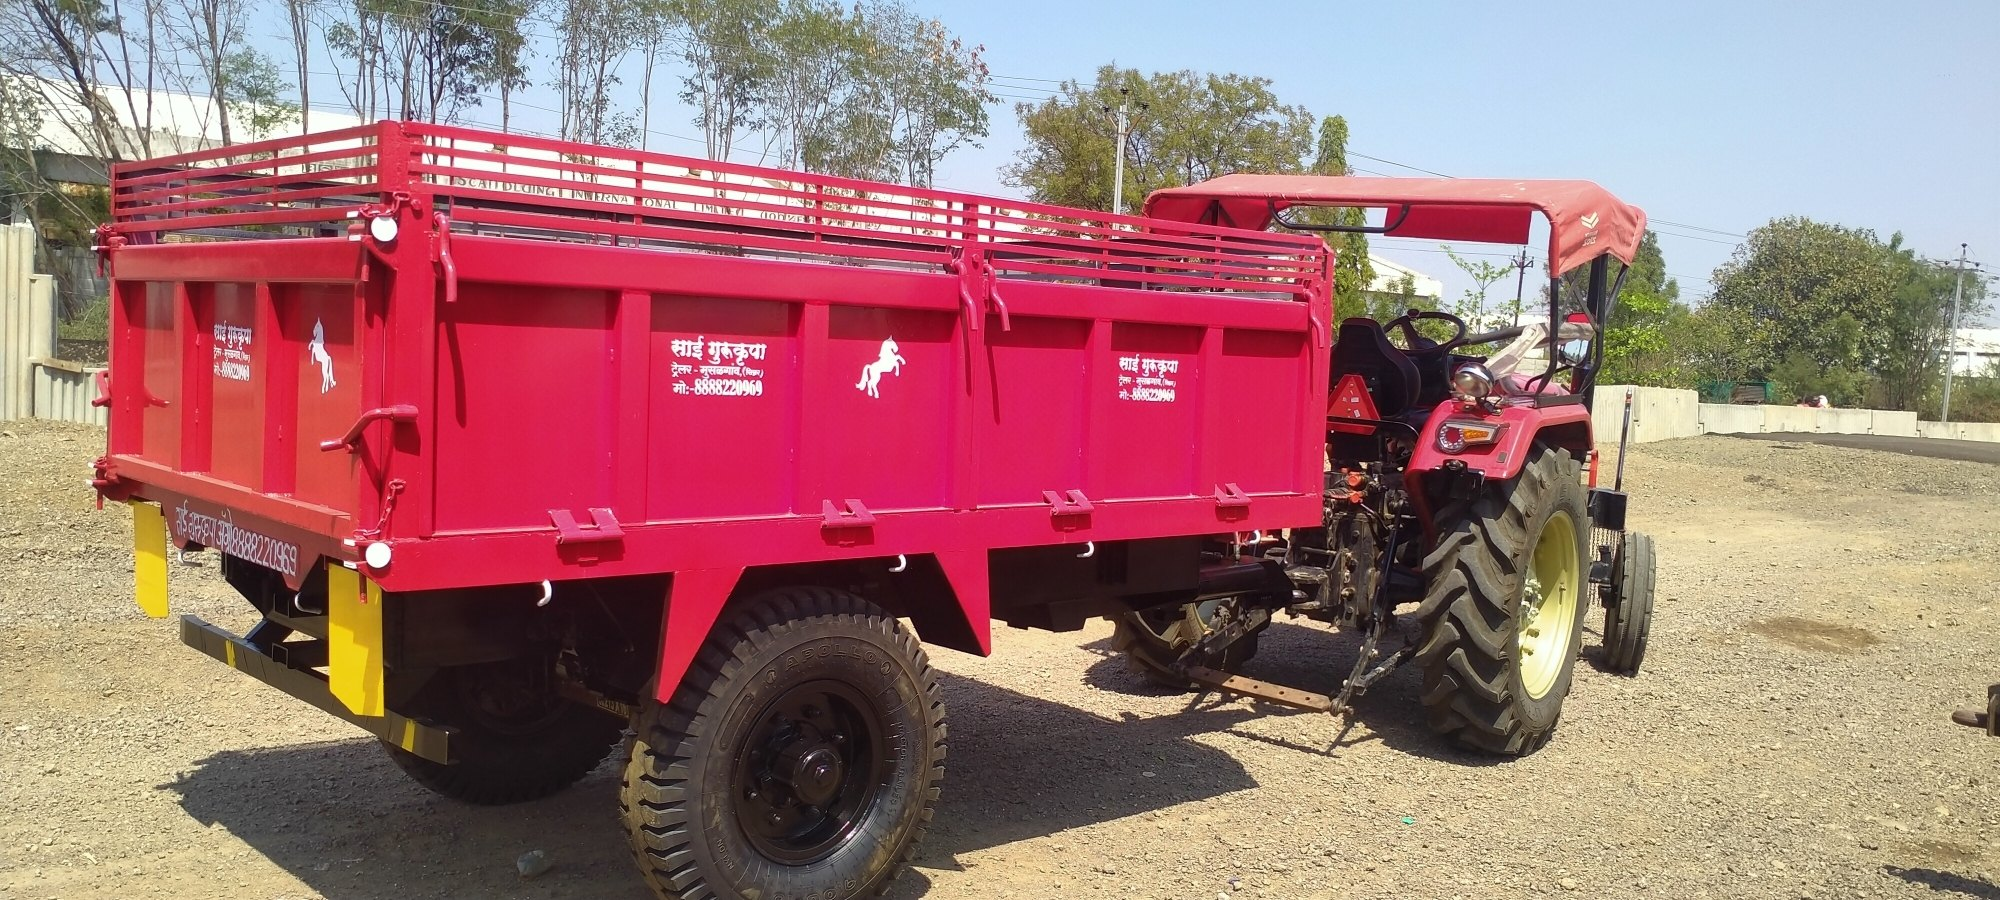wheel: (687, 644, 908, 889), (1455, 511, 1591, 737)
